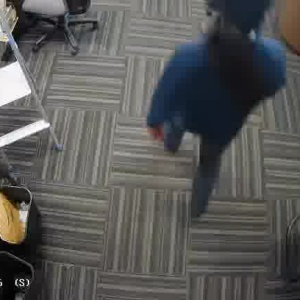person: (148, 0, 277, 198)
